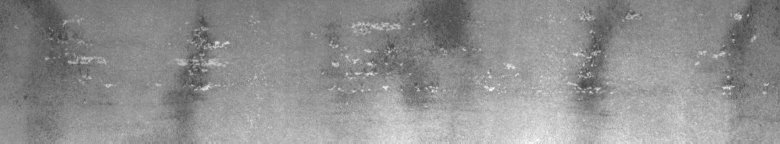hc: (177, 18, 230, 96)
